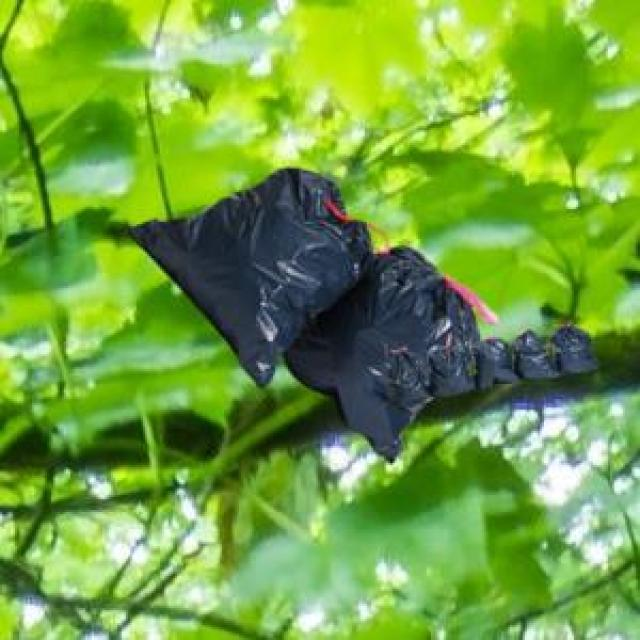Vinyl: (132, 169, 366, 386), (290, 254, 482, 453), (376, 350, 426, 406), (426, 344, 474, 394), (556, 328, 601, 372), (513, 334, 551, 377), (474, 342, 512, 385)
